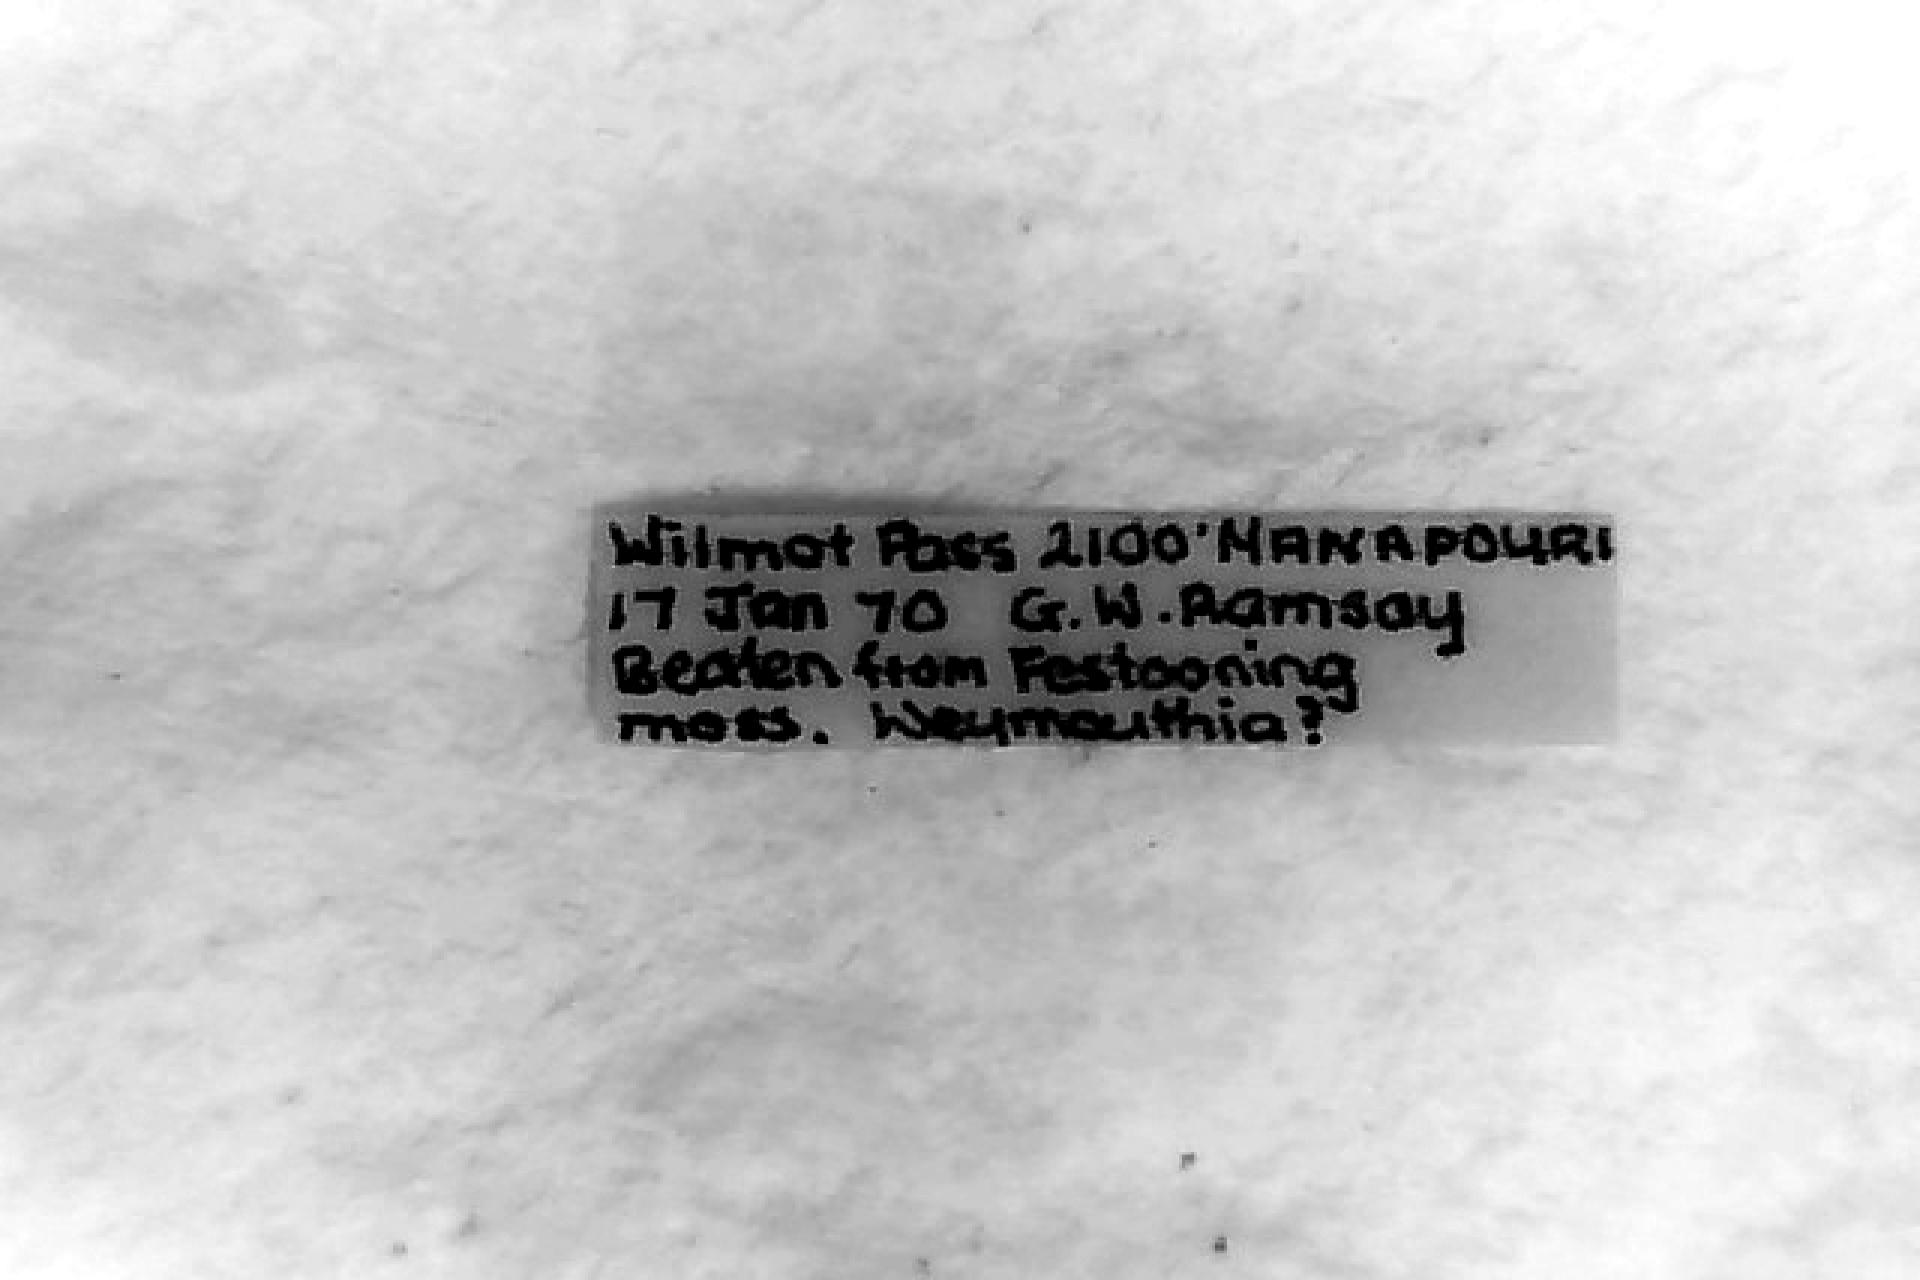hand_label: (593, 510, 1616, 749)
